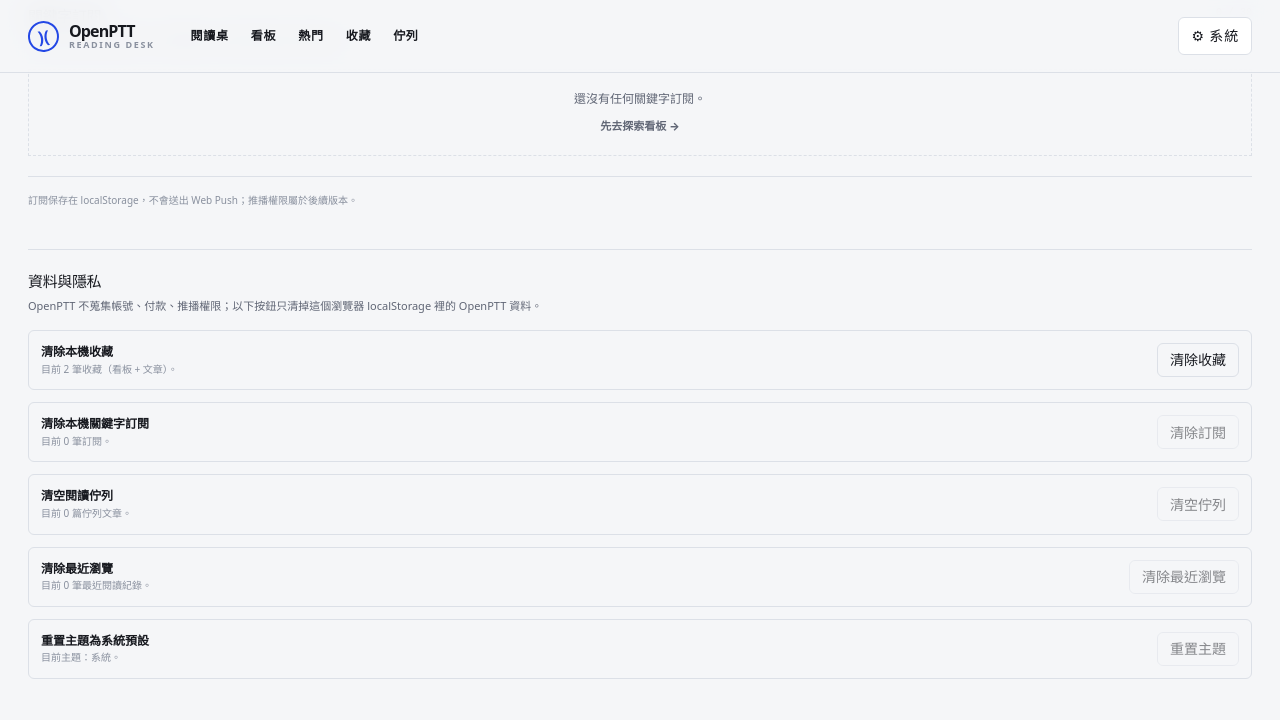
Test case: Sprint 2 - 真實 Ptt 看板清單 › 清除本機收藏後 localStorage 與 UI 同步
(page scrolled)
Click the button with test id "privacy-clear-favorites" at (1198, 360), box x1=1157 y1=343 x2=1239 y2=377
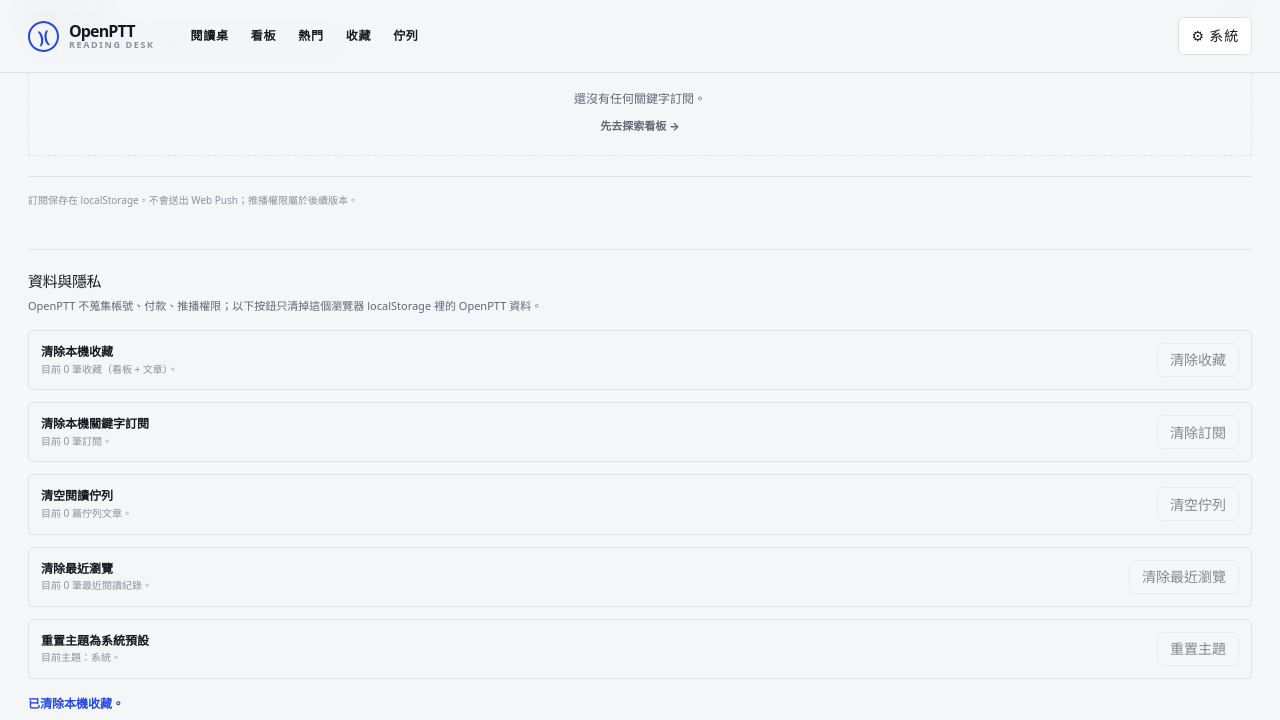
expect the message with test id "privacy-feedback" shows "已清除本機收藏": met, box x1=28 y1=695 x2=124 y2=712
expect the button with test id "privacy-clear-favorites" is disabled: met, box x1=1157 y1=343 x2=1239 y2=377
